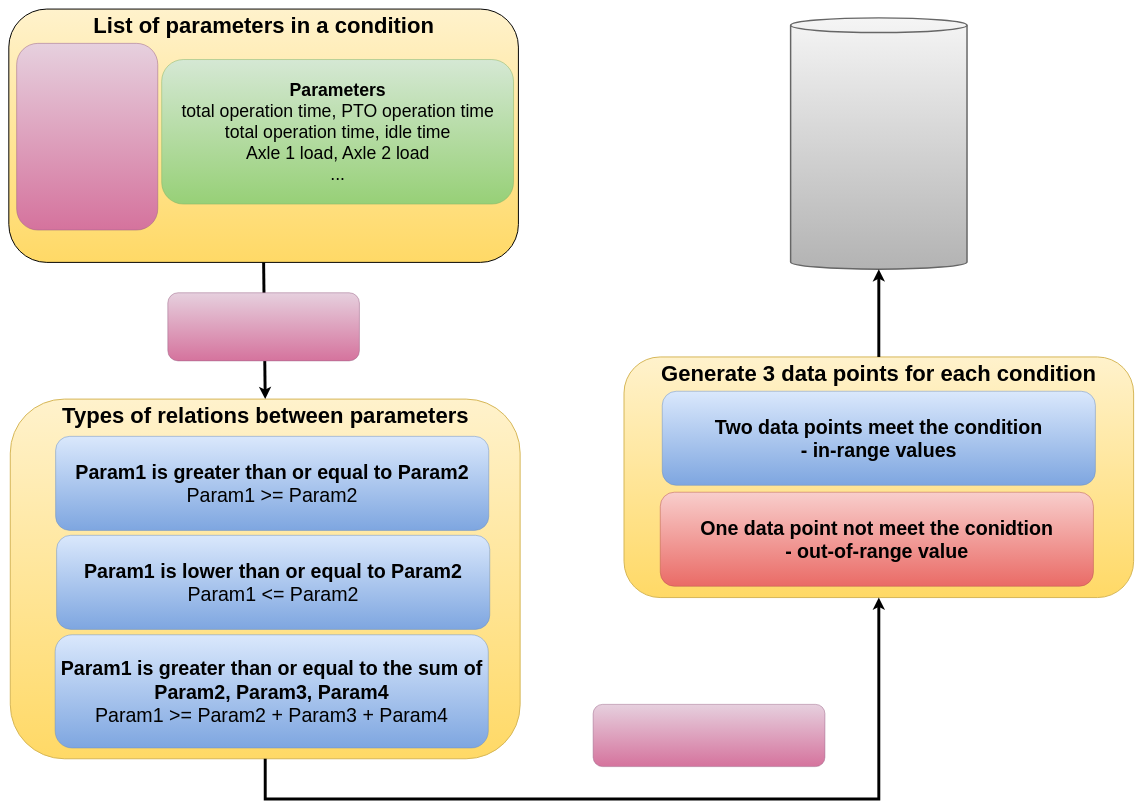
Image size: 1143x812. Some labels were removed from this diagram. Each missing label, with the centre of its shape:
Conditions Condition 1 Condition 2 Condition 3 ...: point 87,136
Database of validation points for Task 2: point 879,143
For each condition: point 709,735
Which relation in a condition?: point 263,326
